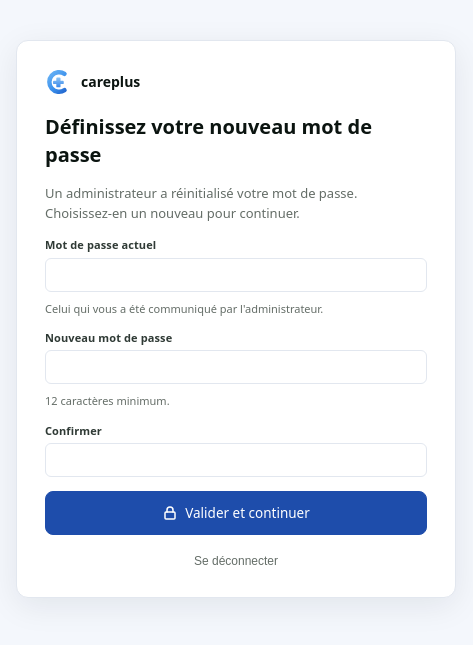
Test: <ForceChangePasswordPage /> › 3. surfaces INVALID_CURRENT_PASSWORD inline without redirecting
Type "Wrong-Pwd-2026!" into the password field labelled "Mot de passe actuel" at [236, 274], box 45,258 -> 427,292
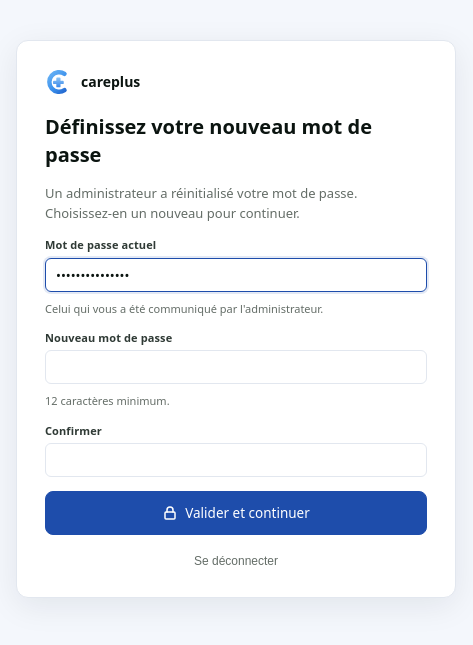
Type "Brand-New-Pwd-2026!" into the password field labelled "Nouveau mot de passe" at [236, 367], box 45,350 -> 427,384
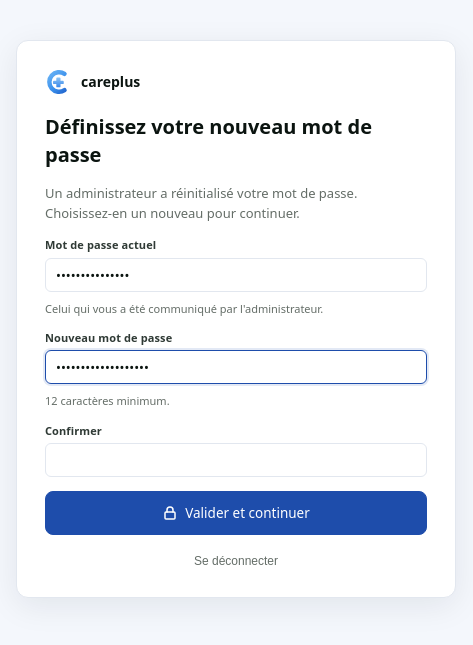
Type "Brand-New-Pwd-2026!" into the password field labelled "Confirmer" at [236, 460], box 45,443 -> 427,477
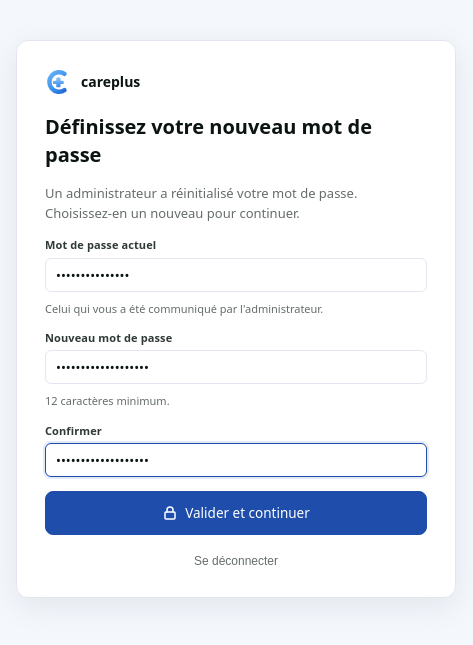
Click the button "Valider et continuer" at [236, 513], box 45,491 -> 427,535
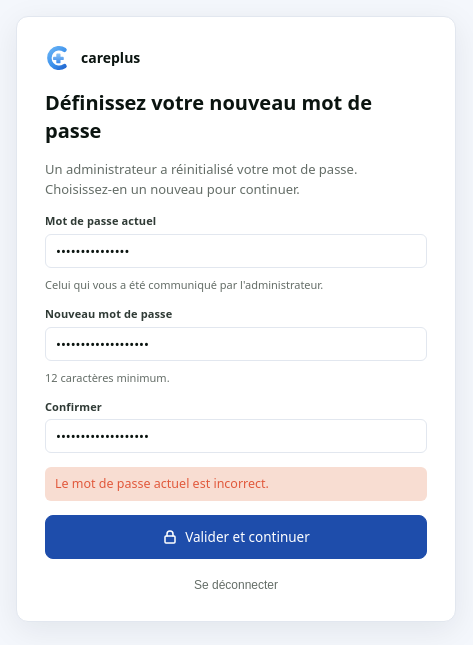
Expected: the text "Le mot de passe actuel est incorrect." is shown, 45,467 -> 427,501
